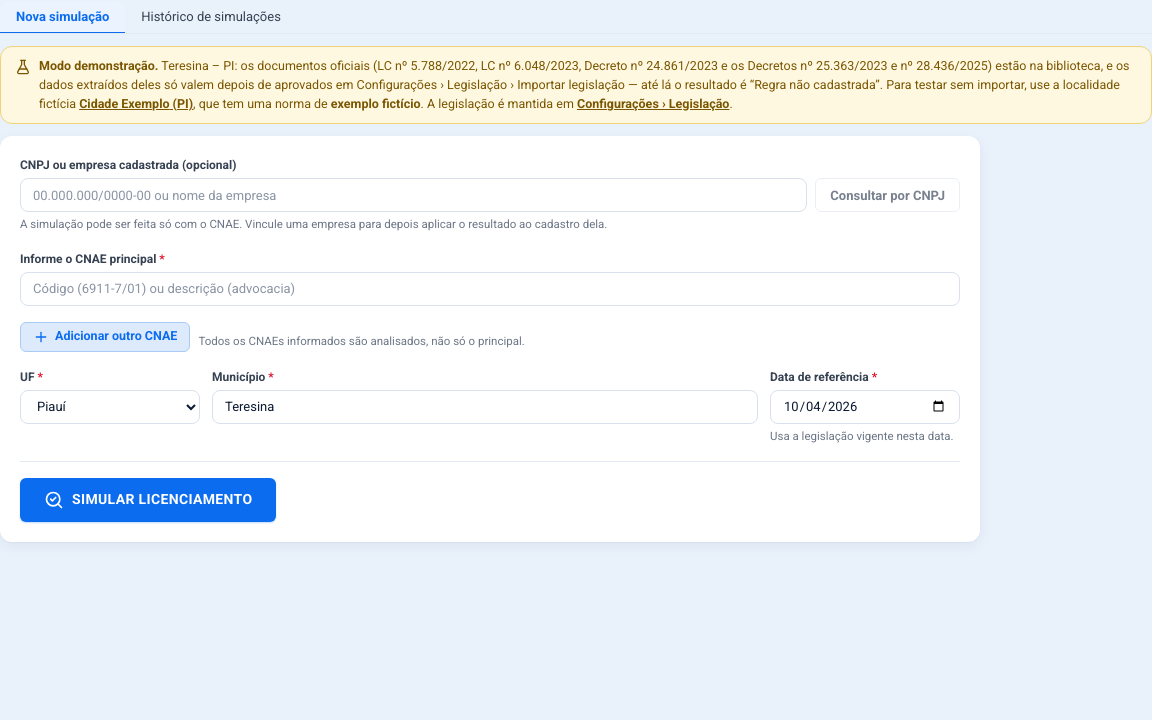
Test: tela de Simulação de Licenciamento › Teresina: base legal cadastrada aguardando o conteúdo oficial → Regra não cadastrada
Type "6911701" into the dropdown labelled "Informe o CNAE principal *" at x=490, y=288, box [20,272,960,306]
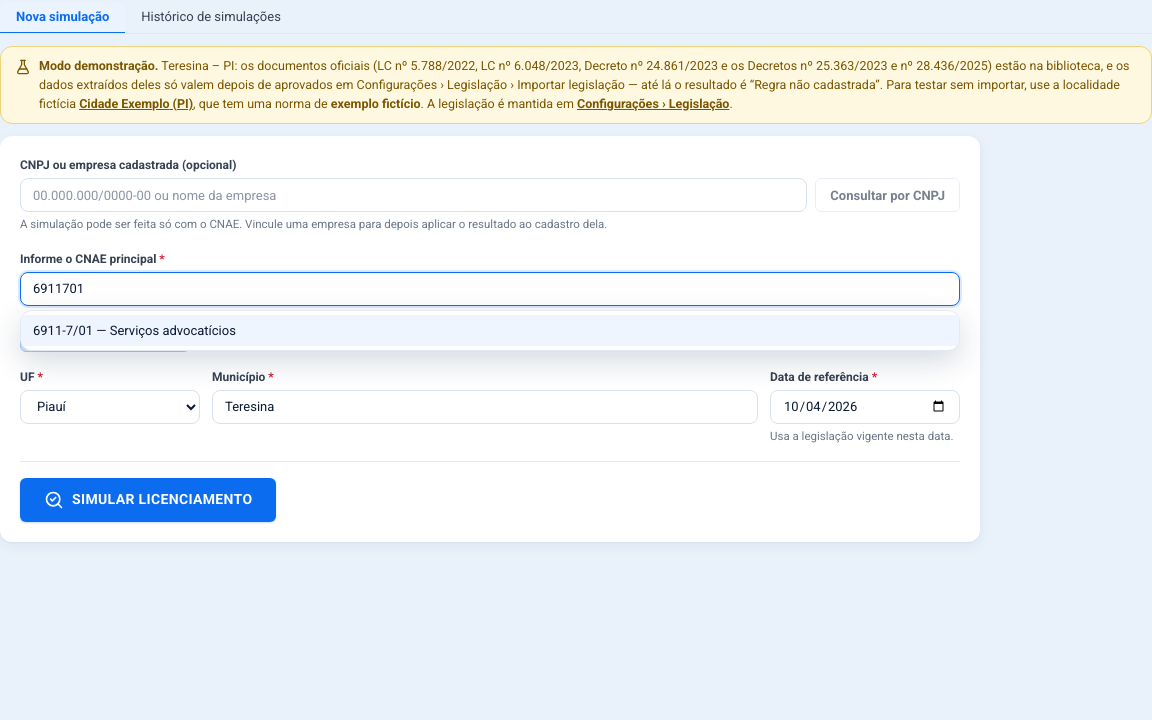
Click the button "Simular licenciamento" at x=148, y=500, box [20,478,276,522]
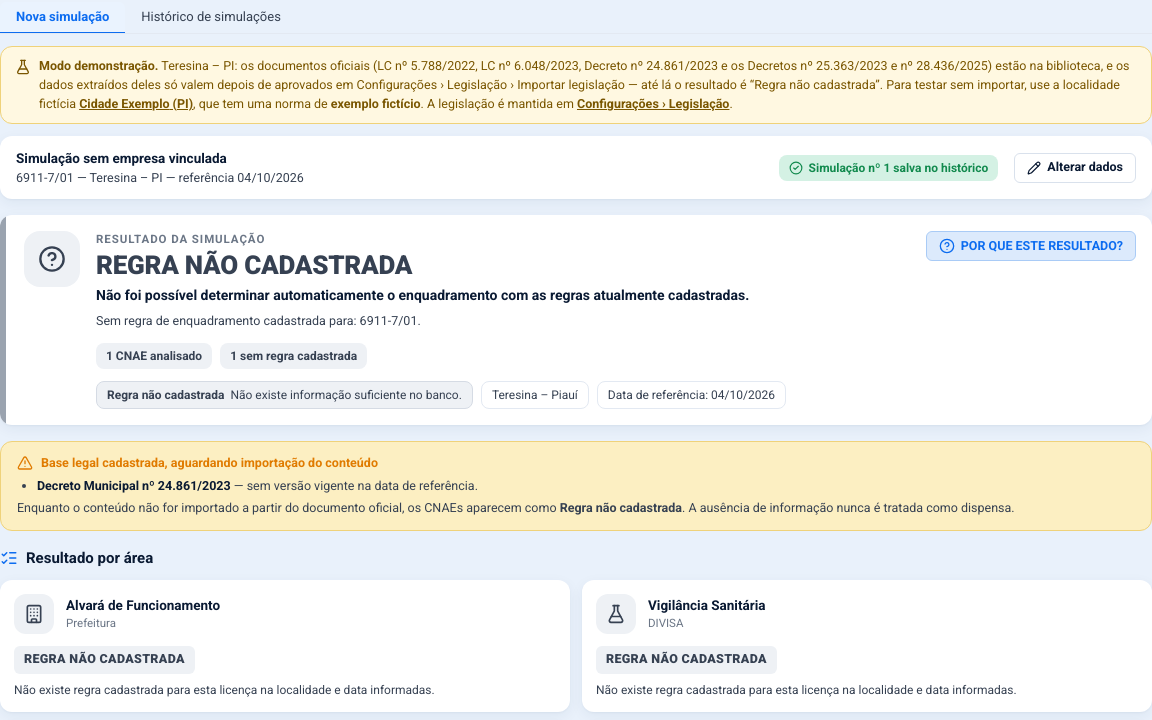
Now the text "Base legal cadastrada, aguardando importação do conteúdo" is shown, box [17,455,378,471]
Now the text "Decreto Municipal nº 24.861/2023" is shown, box [37,478,231,492]
Now the text "Regra não cadastrada" in the row of "Piauí" is shown, box [107,388,224,402]
